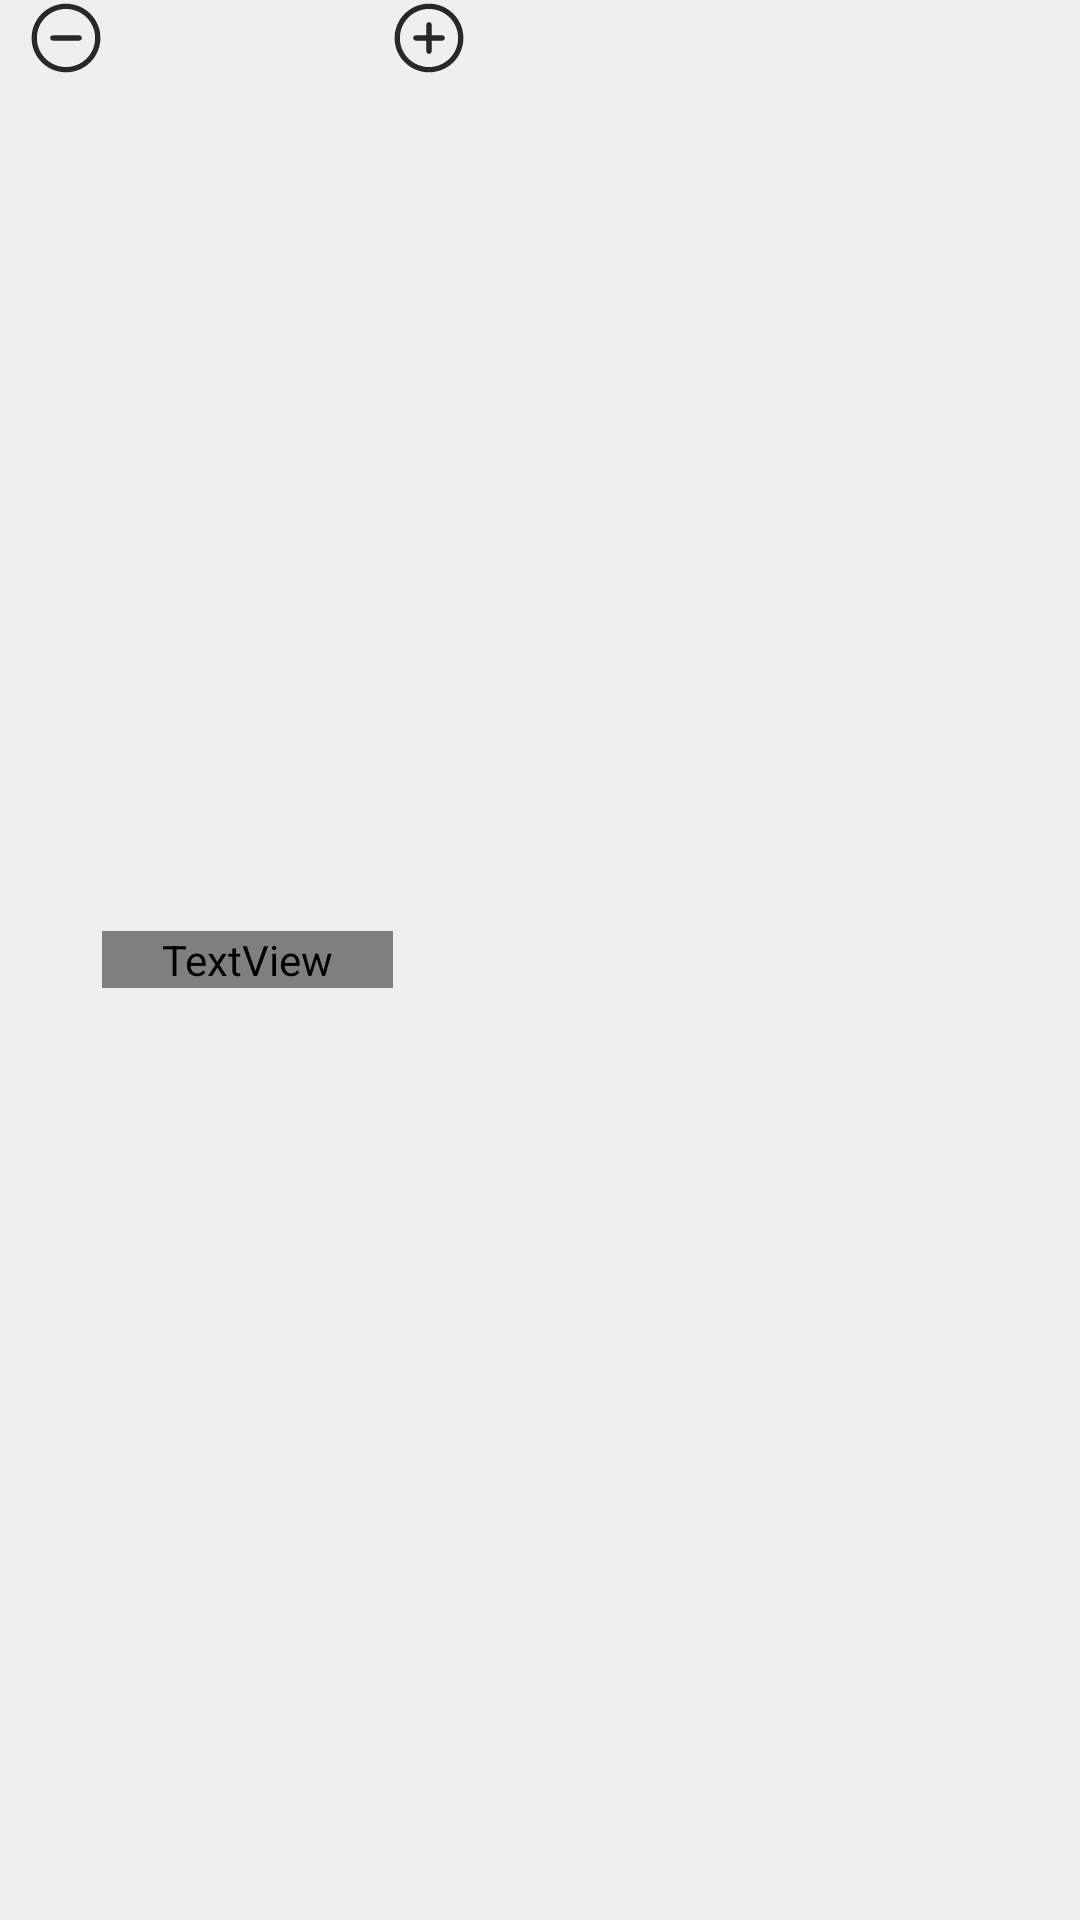

Named icons in this screenshot (1080px×1920px) and their bounding boxes, (x1, y1, x2, y2):
add: (394, 3, 464, 73)
remove: (31, 3, 101, 73)
